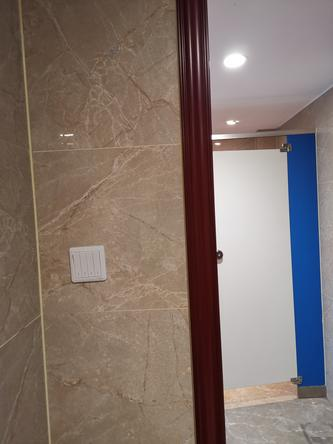switch: (71, 250, 83, 278), (78, 249, 89, 276), (91, 249, 102, 276)
